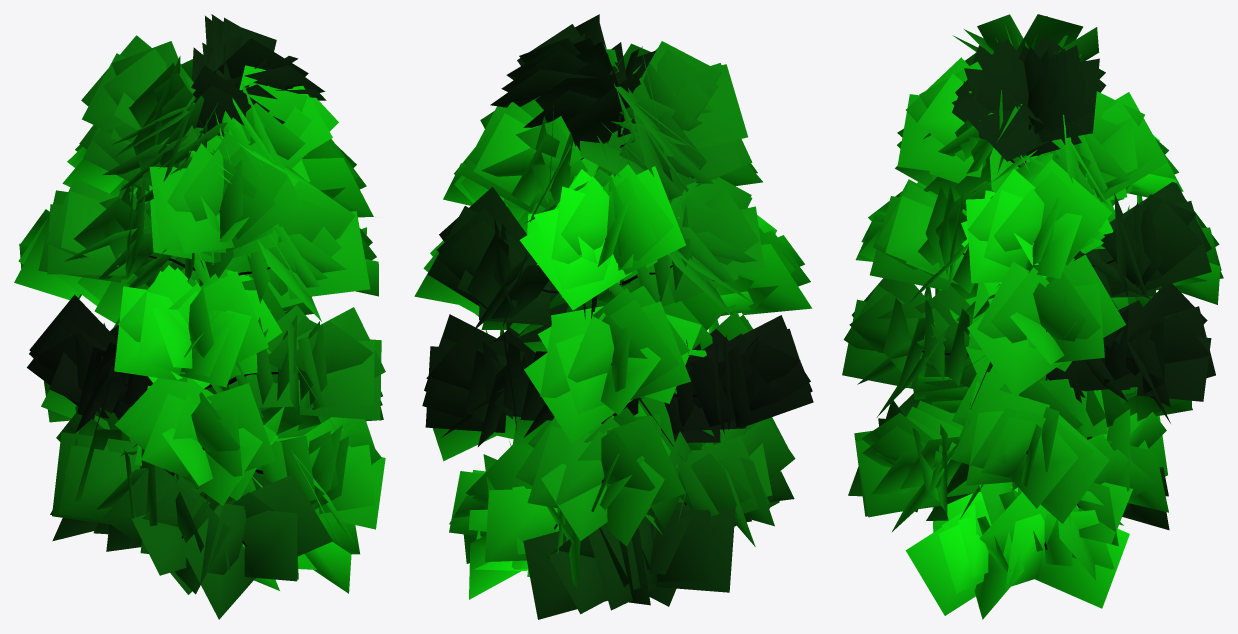
Rendered from Maple_5.fbx.
The picture shows the model from 3 angles, left to right: view 1: azimuth 30°, elevation 25°; view 2: azimuth 150°, elevation 25°; view 3: azimuth 270°, elevation 25°; orthographic projection. The views are drawn at different scales.
Visible parts, largest first — view 1: Maple_5; view 2: Maple_5; view 3: Maple_5.
Boxes of the visible parts, left/top/right/bottom form: Maple_5: left=14, top=14, right=385, bottom=619; Maple_5: left=414, top=14, right=813, bottom=619; Maple_5: left=842, top=14, right=1223, bottom=619.
Size of the model in its own units: 336 by 534 by 340.
